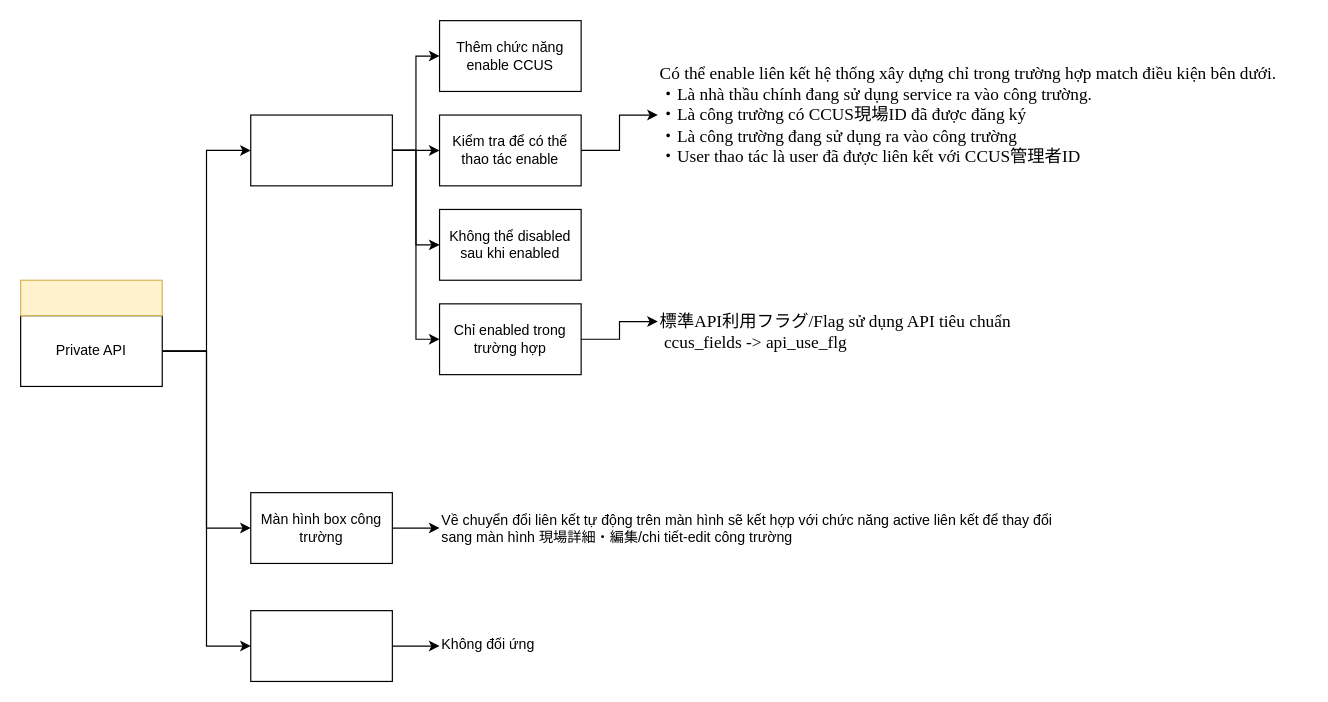
Image size: 1328x702. Some labels were removed from this diagram. Each missing label, with the box of its shape:
API external liên quan tới công trường: (250, 609, 392, 681)
Màn hình edit/chi tiết công trường: (250, 114, 392, 186)
Toàn bộ chỉnh sửa chức năng hiện có: (19, 279, 162, 316)
